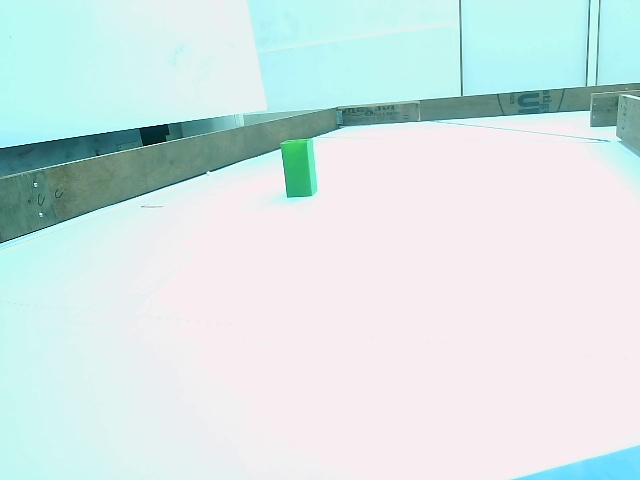green: (281, 140, 319, 196)
